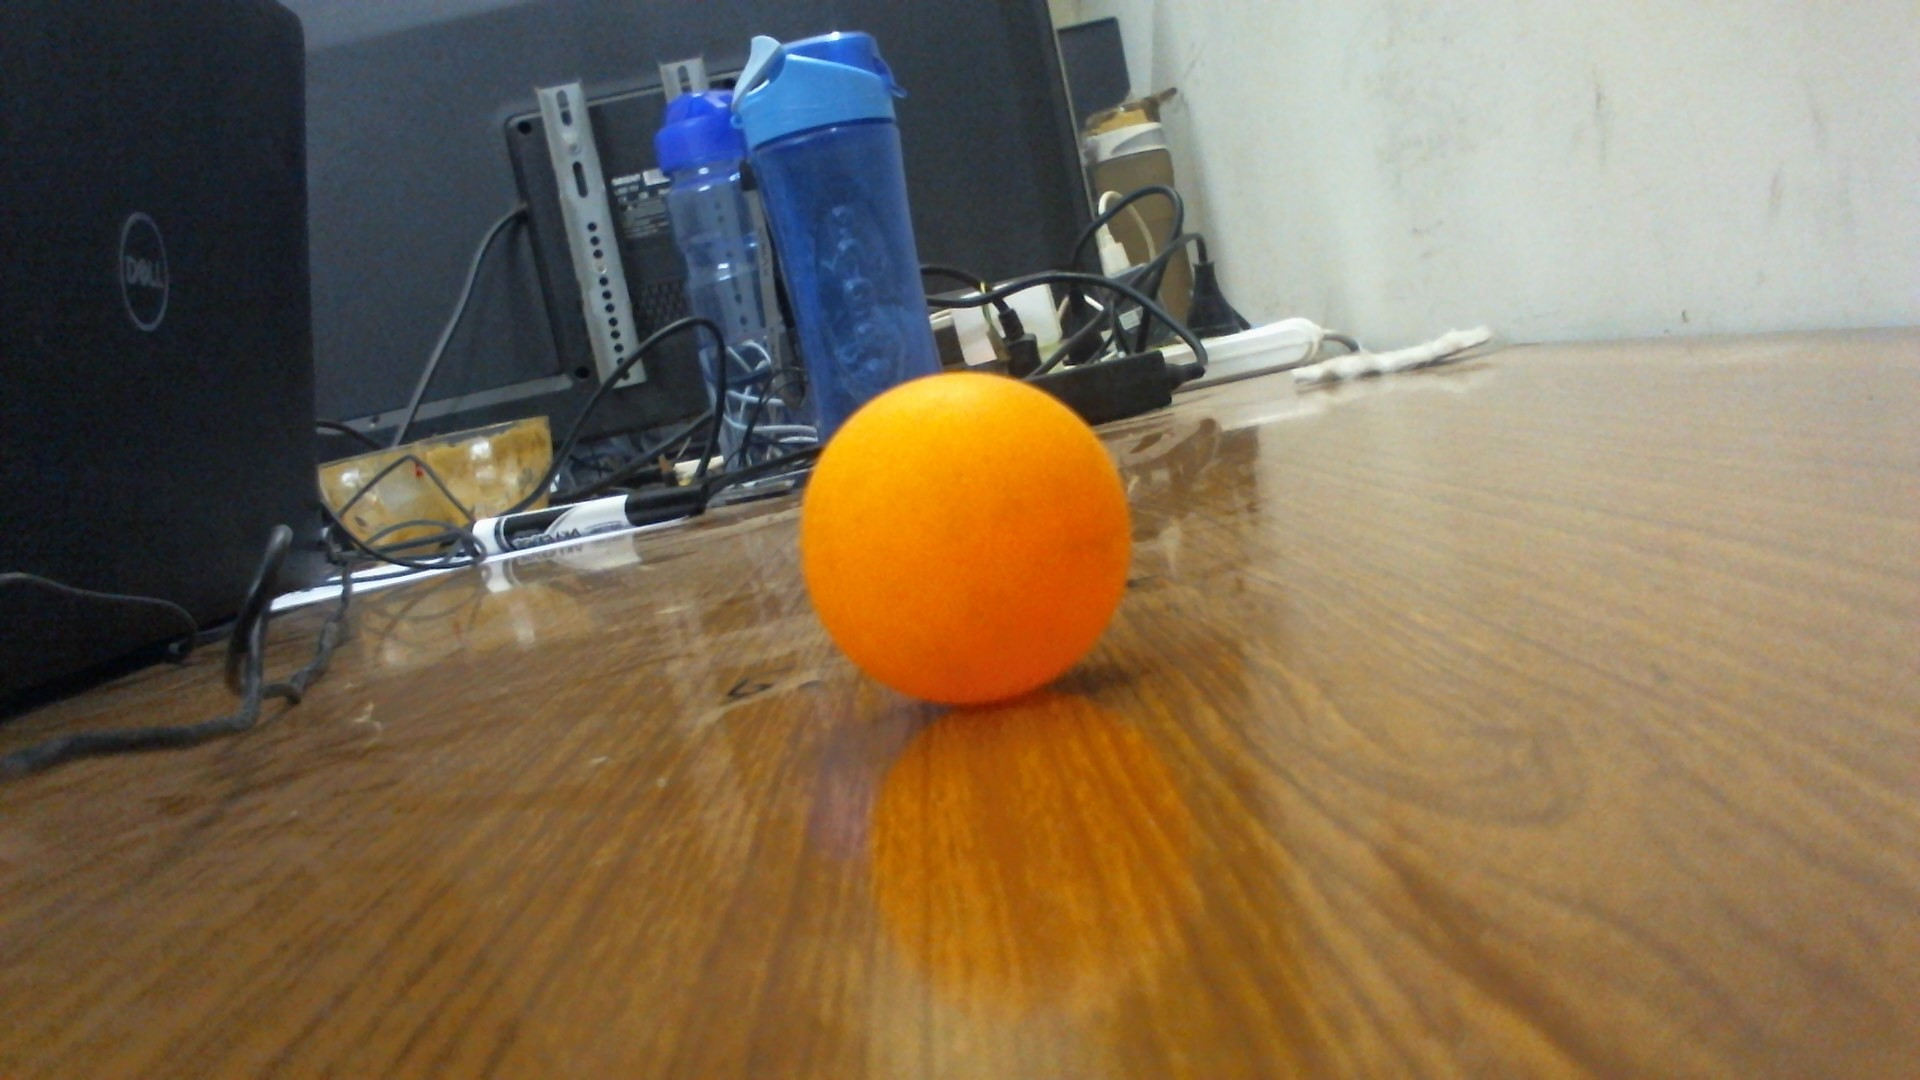ball: (798, 369, 1137, 708)
